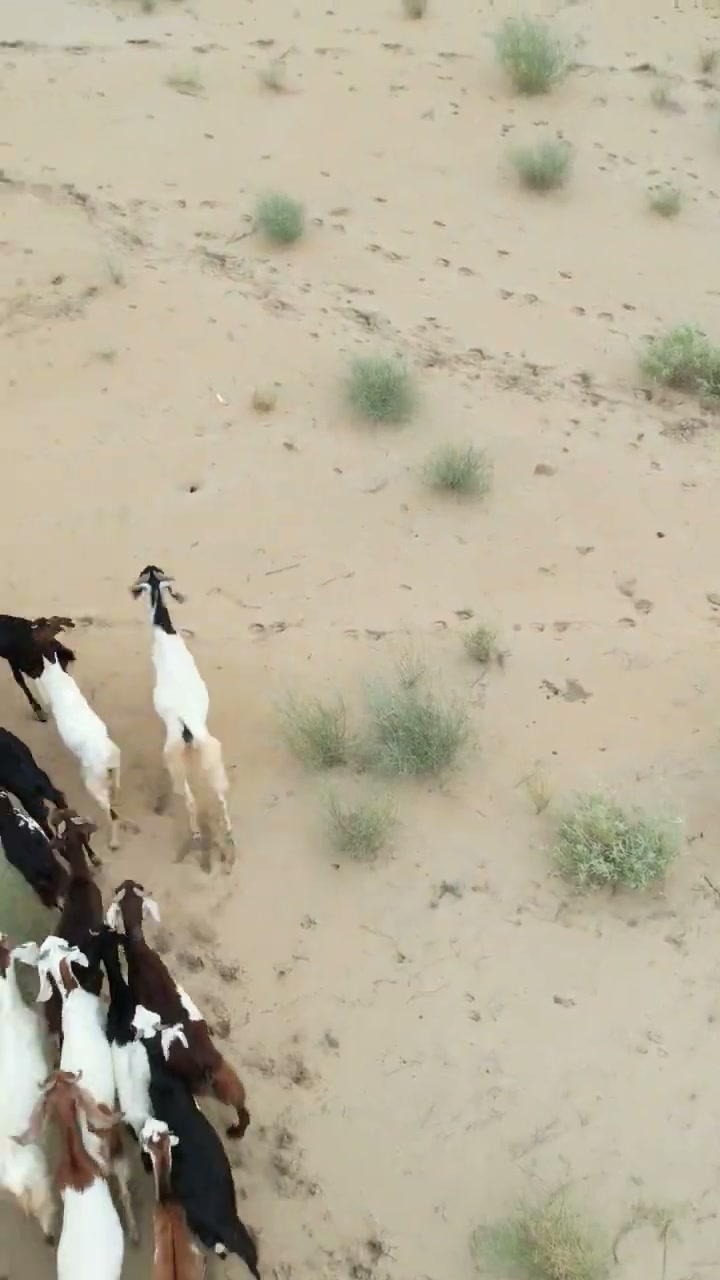animal_footprint: (167, 834, 367, 1256)
